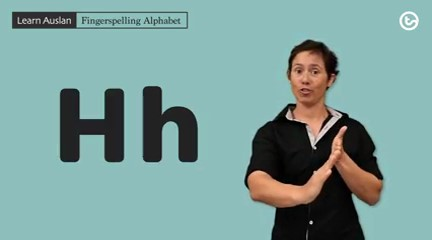H: (299, 124, 352, 207)
